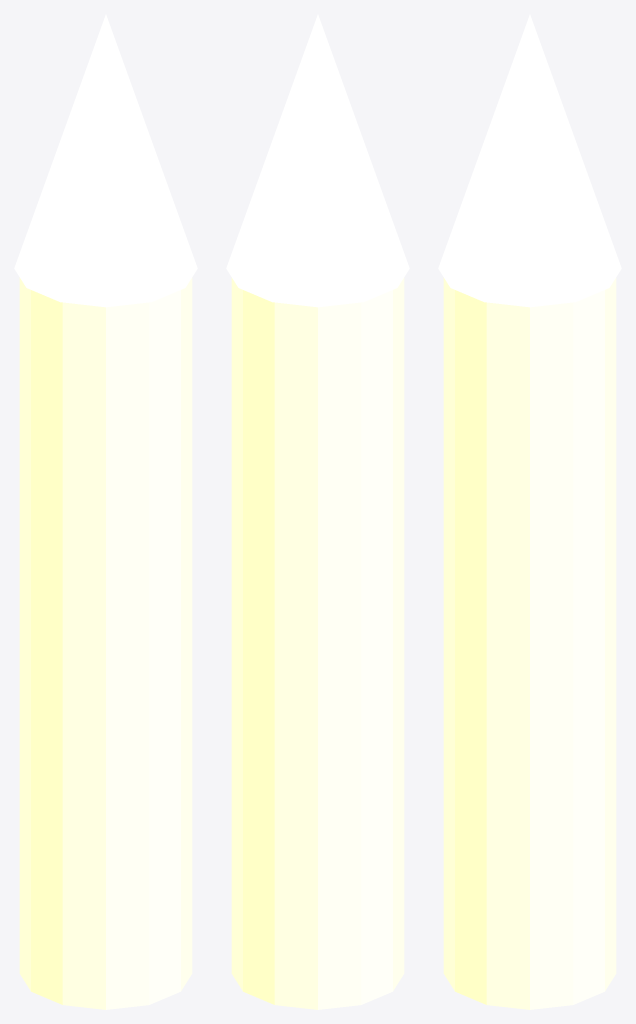
File: bullet.glb
3 views of the same model, side by side, from view 1: azimuth 30°, elevation 25°; view 2: azimuth 150°, elevation 25°; view 3: azimuth 270°, elevation 25° (orthographic).
Parts seen in each view (by area): view 1: bullet_body, bullet_tip; view 2: bullet_body, bullet_tip; view 3: bullet_body, bullet_tip.
Part boxes in pixels (x1,y1,x2,y2): bullet_body: (19, 277, 192, 1009); bullet_tip: (14, 14, 197, 307); bullet_body: (231, 277, 404, 1009); bullet_tip: (226, 14, 409, 307); bullet_body: (443, 277, 616, 1009); bullet_tip: (438, 14, 621, 307).
Bounding box in the file's own units: 0.17 × 0.98 × 0.17.
